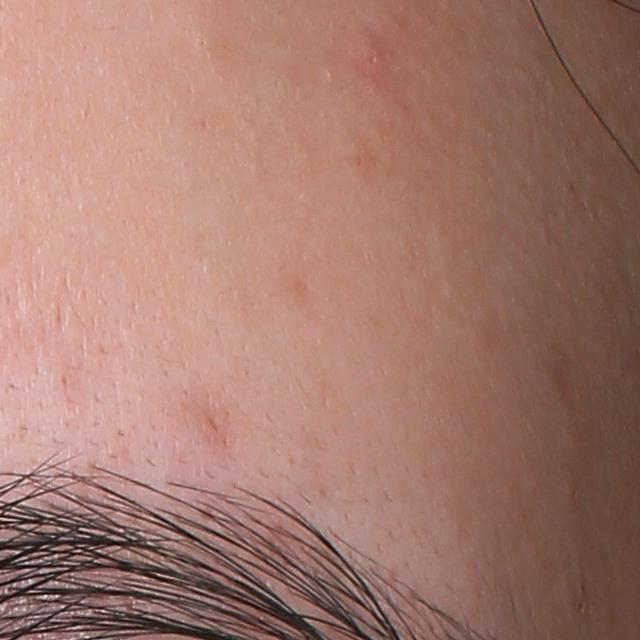papule: (357, 41, 391, 82)
